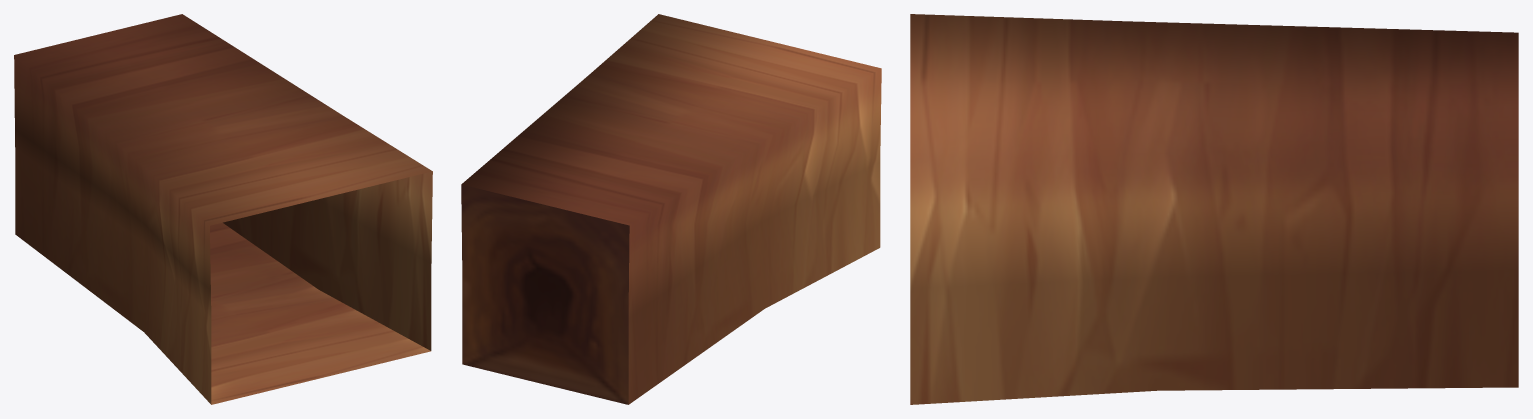
The model's file is Chapter1Scene1Model32.FBX.
3 renders of one model, left to right at view 1: azimuth 30°, elevation 25°; view 2: azimuth 150°, elevation 25°; view 3: azimuth 270°, elevation 25°, orthographic. The views are drawn at different scales.
Visible parts, largest first — view 1: Chapter1Scene1Model32; view 2: Chapter1Scene1Model32; view 3: Chapter1Scene1Model32.
Part boxes in pixels (x1,y1,x2,y2): Chapter1Scene1Model32: [14, 14, 432, 404]; Chapter1Scene1Model32: [461, 14, 881, 404]; Chapter1Scene1Model32: [910, 14, 1518, 404].
Bounding box in the file's own units: 72.08 × 125 × 55.5.
